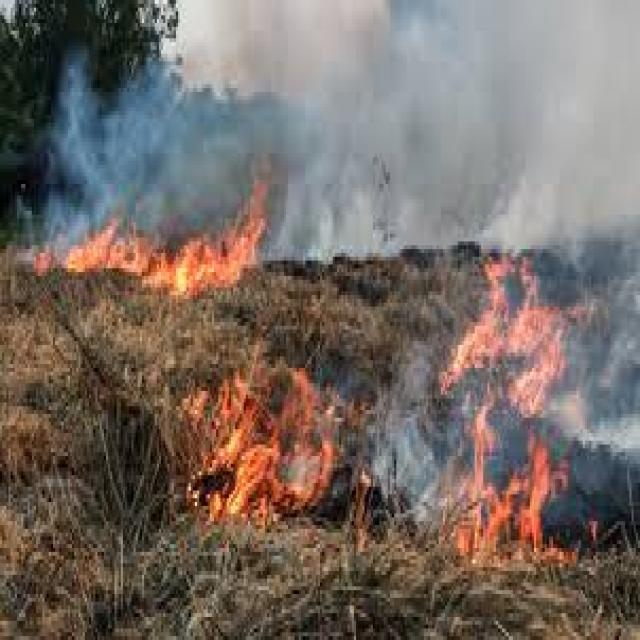Fire: (30, 155, 282, 305), (178, 338, 348, 526), (444, 246, 574, 424), (444, 412, 572, 584)
Smoke: (44, 61, 640, 242), (261, 0, 640, 228)
